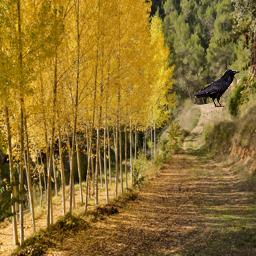Crow: (192, 68, 240, 107)
